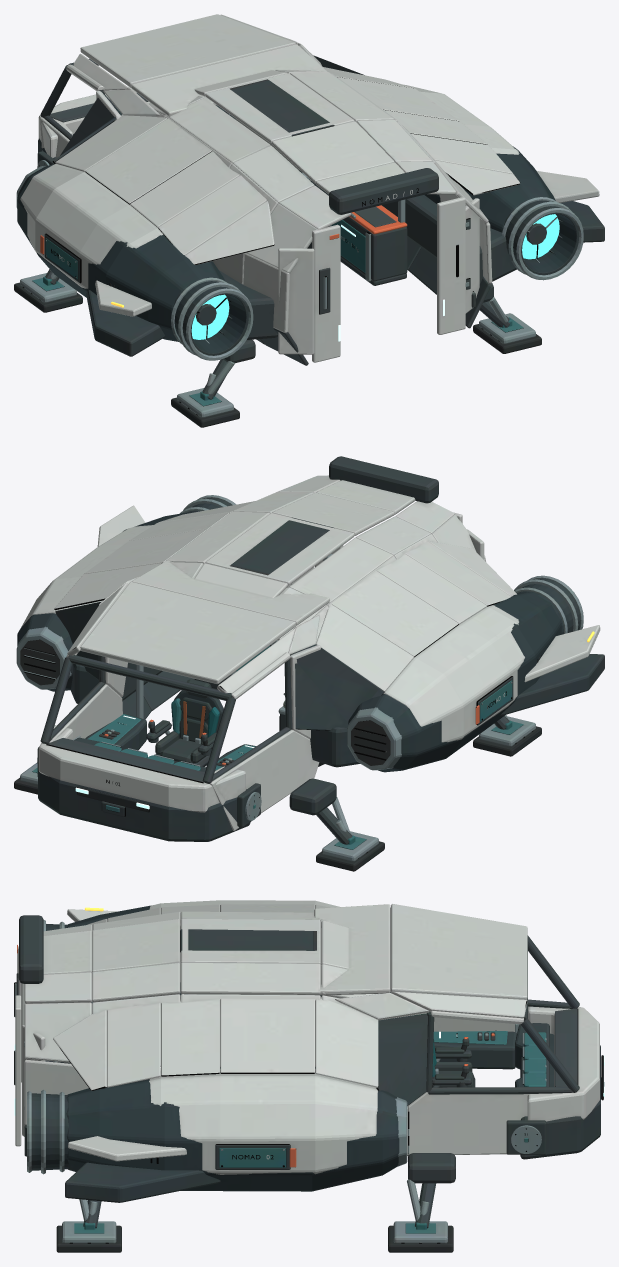
Rendered from nomad.glb.
The picture shows the model from 3 angles, top to bottom: view 1: azimuth 30°, elevation 25°; view 2: azimuth 150°, elevation 25°; view 3: azimuth 270°, elevation 25°; orthographic projection. The views are drawn at different scales.
Parts seen in each view (by area): view 1: Nomad hull / rigid batch, Nomad hull / rigid batch.002, Nomad hull / rigid batch.004, Nomad hull / rigid batch.001, Drive / static batch, Nomad cabin / rigid batch; view 2: Nomad hull / rigid batch, Nomad cabin / rigid batch.001, Nomad cabin / rigid batch.011, Nomad hull / rigid batch.001, Nomad hull / rigid batch.002, Nomad cabin / rigid batch.002; view 3: Nomad hull / rigid batch, Nomad cabin / rigid batch.011, Nomad hull / rigid batch.003, Nomad hull / rigid batch.004, Nomad cabin / rigid batch.001.
Part boxes in pixels (x1,y1,x2,y2): Nomad hull / rigid batch: [16, 14, 604, 365]; Nomad hull / rigid batch.002: [171, 359, 239, 427]; Nomad hull / rigid batch.004: [473, 297, 541, 353]; Nomad hull / rigid batch.001: [14, 269, 82, 312]; Drive / static batch: [191, 214, 559, 339]; Nomad cabin / rigid batch: [349, 205, 407, 234]; Nomad hull / rigid batch: [16, 456, 604, 841]; Nomad cabin / rigid batch.001: [146, 679, 223, 766]; Nomad cabin / rigid batch.011: [73, 714, 256, 772]; Nomad hull / rigid batch.001: [316, 797, 384, 871]; Nomad hull / rigid batch.002: [473, 715, 541, 756]; Nomad cabin / rigid batch.002: [136, 554, 332, 730]; Nomad hull / rigid batch: [14, 900, 604, 1202]; Nomad cabin / rigid batch.011: [433, 1023, 549, 1087]; Nomad hull / rigid batch.003: [388, 1179, 453, 1252]; Nomad hull / rigid batch.004: [56, 1199, 121, 1252]; Nomad cabin / rigid batch.001: [432, 1041, 475, 1087].
Size of the model in its own units: 9.74 by 4.03 by 9.57.
Materials: 5 (2 with a texture image).
